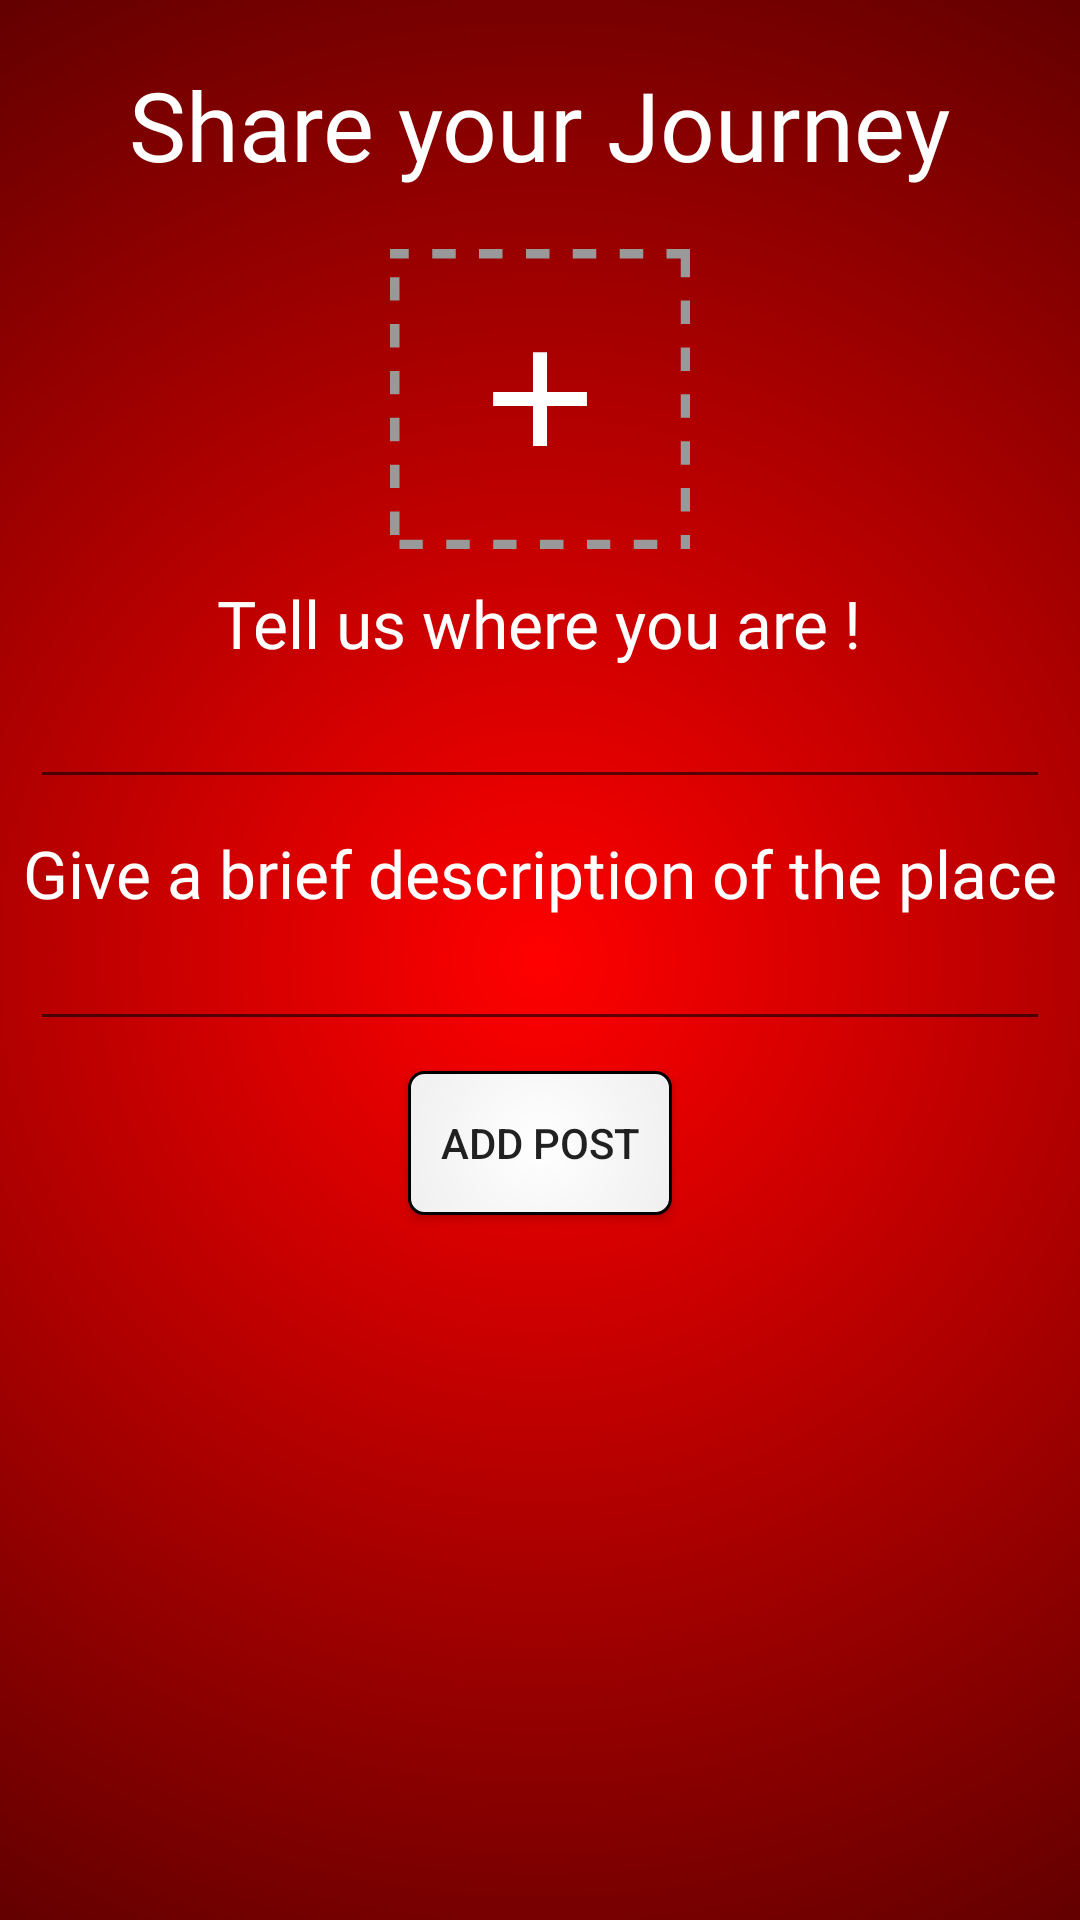

Named icons in this screenshot (1080 × 1920) and their centers, point (x, y):
add: point (540, 399)
